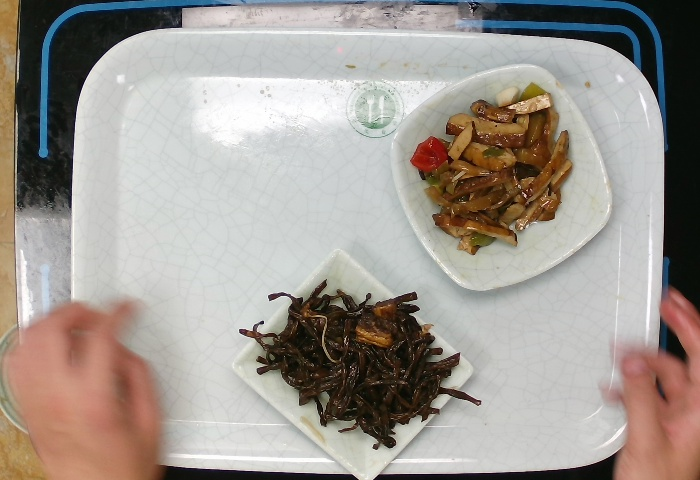WCQzf-Da_Si_Fang_Die: (383, 55, 619, 296)
WCQzf-Ru_Ci_Si_Fang_Die: (226, 245, 478, 480)
